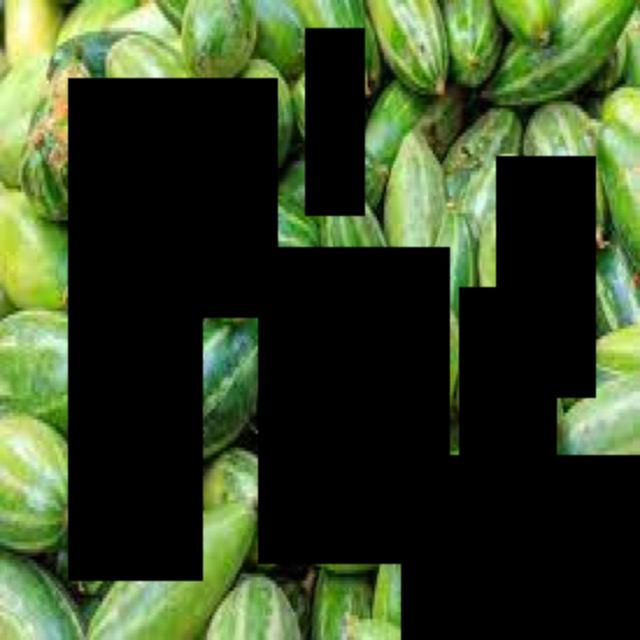Pointed_Gourd: (258, 247, 451, 564), (68, 79, 278, 318), (401, 455, 640, 640), (68, 266, 203, 582), (496, 156, 596, 398), (459, 287, 557, 466), (306, 28, 366, 216)
